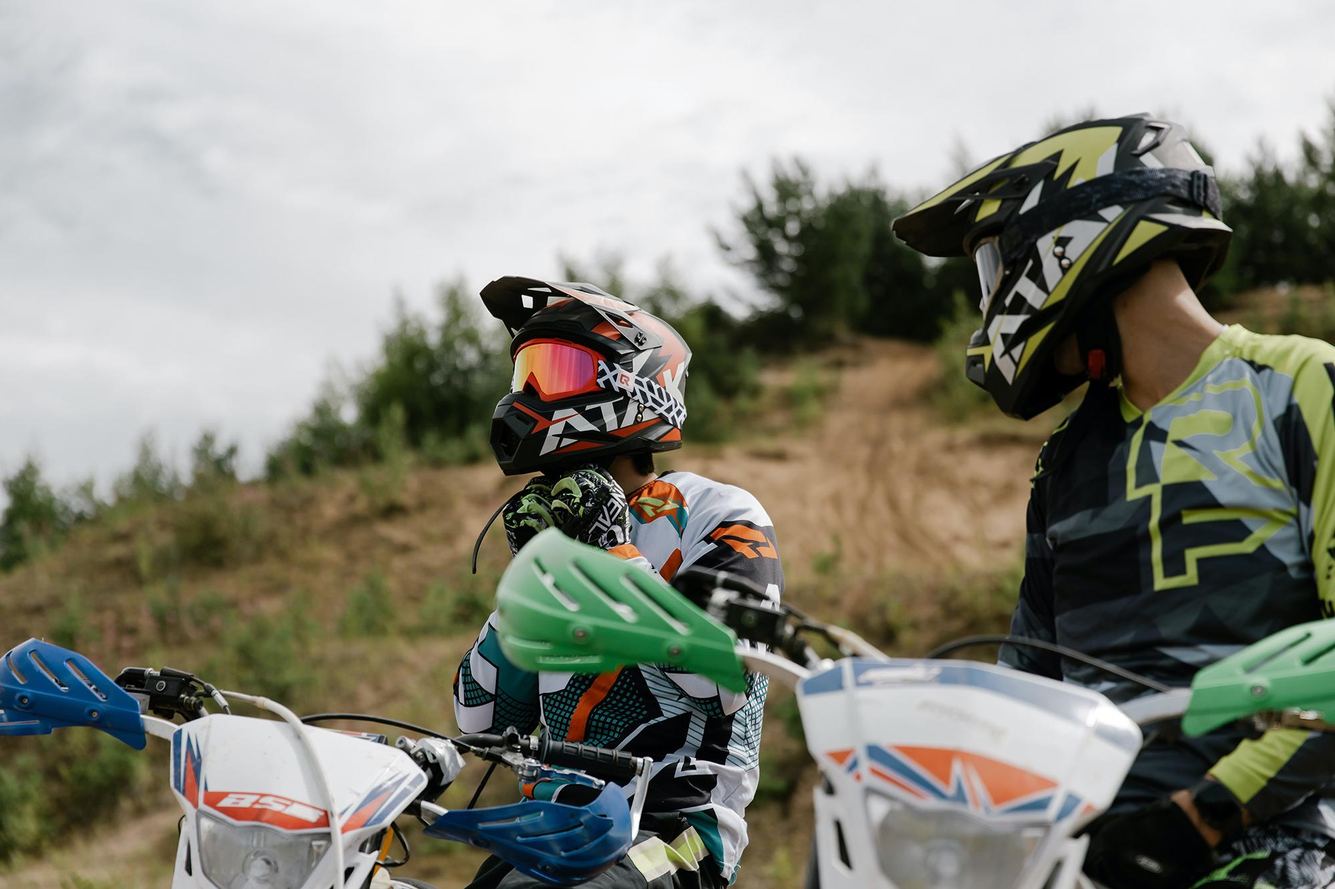helmet: (889, 110, 1235, 424), (478, 274, 693, 478)
